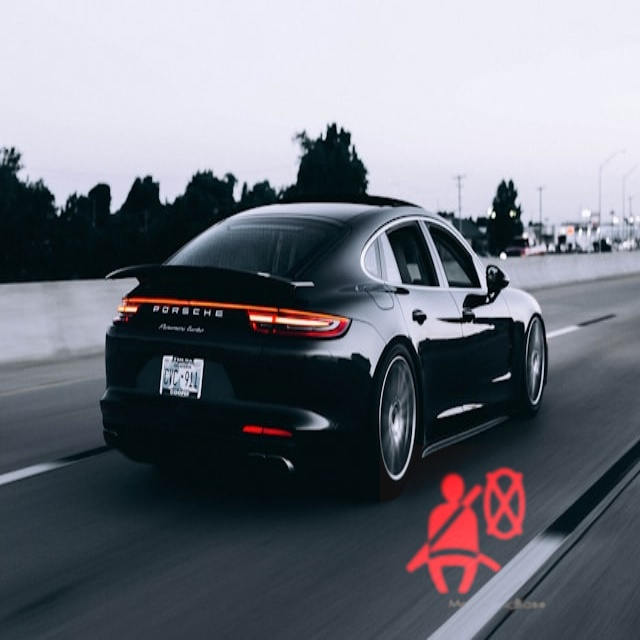symbol: (380, 445, 553, 618)
